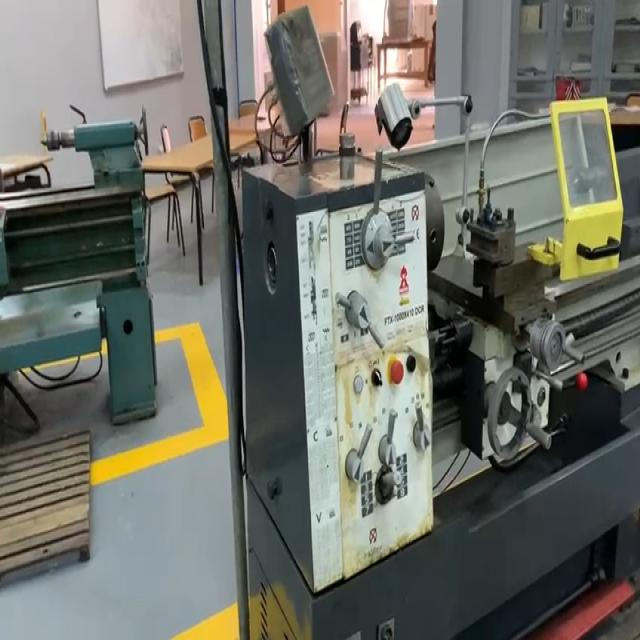tour parallele: (243, 100, 640, 640)
